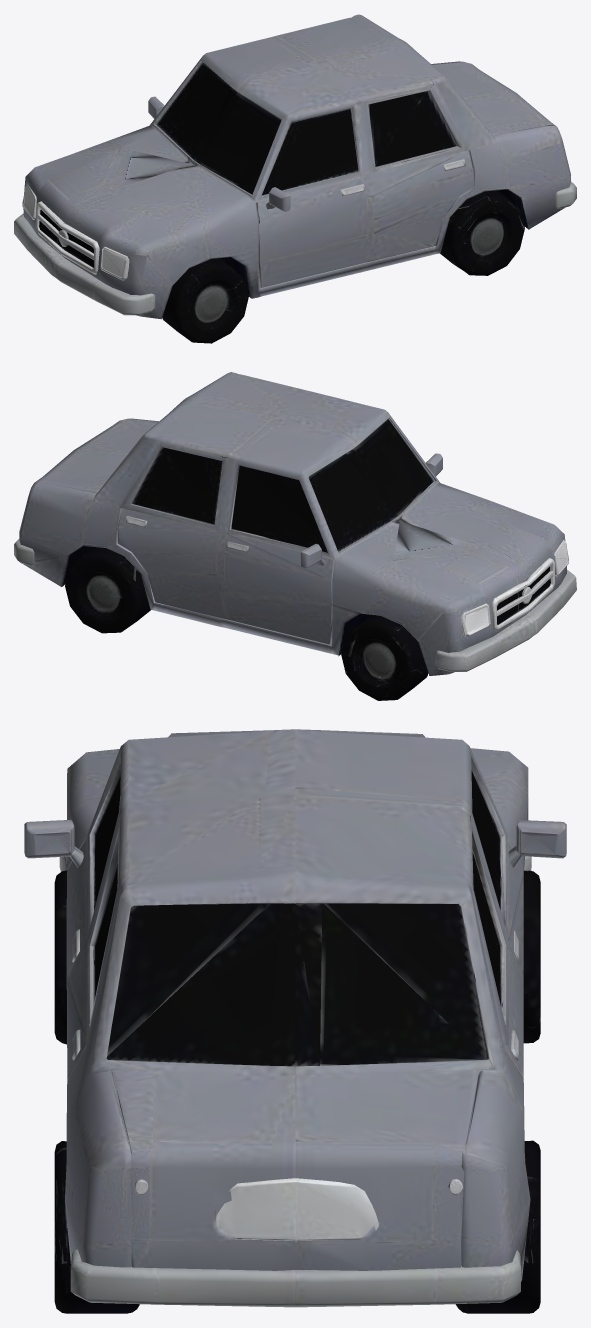
The model's file is 47-sedan-car.glb.
The picture shows the model from 3 angles, top to bottom: view 1: azimuth 30°, elevation 25°; view 2: azimuth 150°, elevation 25°; view 3: azimuth 270°, elevation 25°; orthographic projection. The views are drawn at different scales.
Visible parts, largest first — view 1: geometry_0; view 2: geometry_0; view 3: geometry_0.
Boxes of the visible parts, x1,y1,x2,y2 form: geometry_0: (14,14,576,343); geometry_0: (14,372,576,700); geometry_0: (24,729,566,1313).
Size of the model in its own units: 0.9502 by 0.3833 by 0.4692.
1 material, 1 textured.
